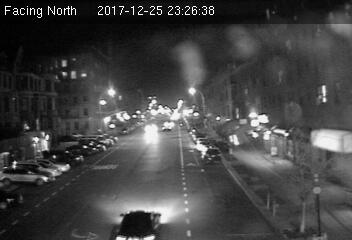car: (113, 211, 168, 240), (201, 147, 221, 162)
